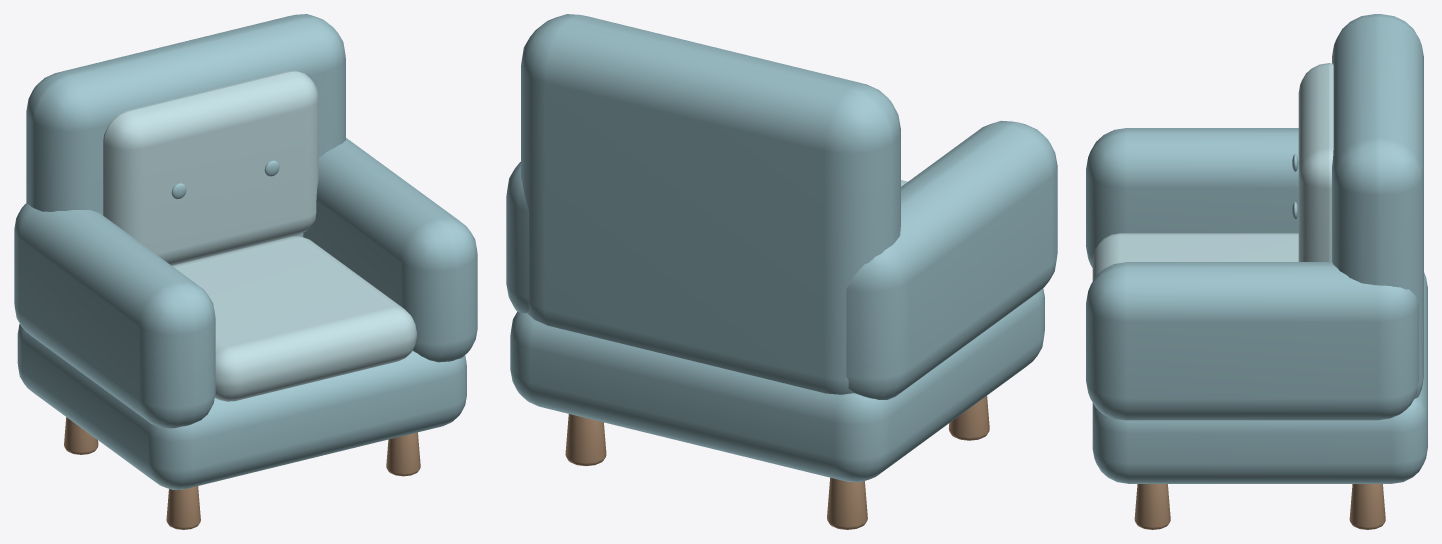
The model's file is armchair.glb.
The picture shows the model from 3 angles, left to right: view 1: azimuth 30°, elevation 25°; view 2: azimuth 150°, elevation 25°; view 3: azimuth 270°, elevation 25°; orthographic projection. The views are drawn at different scales.
Visible parts, largest first — view 1: Chair back cushion, Cushioned arm, Chair base, Chair back, Chair seat, Cushioned arm.001, Oak foot, Oak foot.002, Oak foot.001; view 2: Chair back, Chair base, Cushioned arm, Cushioned arm.001, Oak foot.001, Oak foot.003, Oak foot; view 3: Cushioned arm.001, Chair back, Cushioned arm, Chair base, Chair back cushion, Chair seat, Oak foot.002, Oak foot.003.
Part boxes in pixels (left/top/right/bottom): Chair back cushion: left=103, top=70, right=318, bottom=265; Cushioned arm: left=14, top=203, right=215, bottom=428; Chair base: left=17, top=324, right=466, bottom=489; Chair back: left=26, top=14, right=345, bottom=264; Chair seat: left=172, top=236, right=416, bottom=401; Cushioned arm.001: left=303, top=138, right=477, bottom=362; Oak foot: left=166, top=486, right=200, bottom=529; Oak foot.002: left=386, top=432, right=420, bottom=476; Oak foot.001: left=64, top=417, right=98, bottom=454; Chair back: left=521, top=14, right=900, bottom=394; Chair base: left=510, top=288, right=1044, bottom=482; Cushioned arm: left=846, top=120, right=1057, bottom=399; Cushioned arm.001: left=506, top=162, right=529, bottom=313; Oak foot.001: left=827, top=477, right=867, bottom=529; Oak foot.003: left=565, top=414, right=606, bottom=465; Oak foot: left=948, top=396, right=989, bottom=440; Cushioned arm.001: left=1086, top=262, right=1418, bottom=420; Chair back: left=1332, top=14, right=1423, bottom=398; Cushioned arm: left=1086, top=128, right=1298, bottom=267; Chair base: left=1092, top=272, right=1427, bottom=483; Chair back cushion: left=1298, top=63, right=1333, bottom=261; Chair seat: left=1092, top=233, right=1298, bottom=280; Oak foot.002: left=1134, top=484, right=1170, bottom=529; Oak foot.003: left=1349, top=484, right=1385, bottom=529.
Size of the model in its own units: 1.58 by 1.68 by 1.33.
